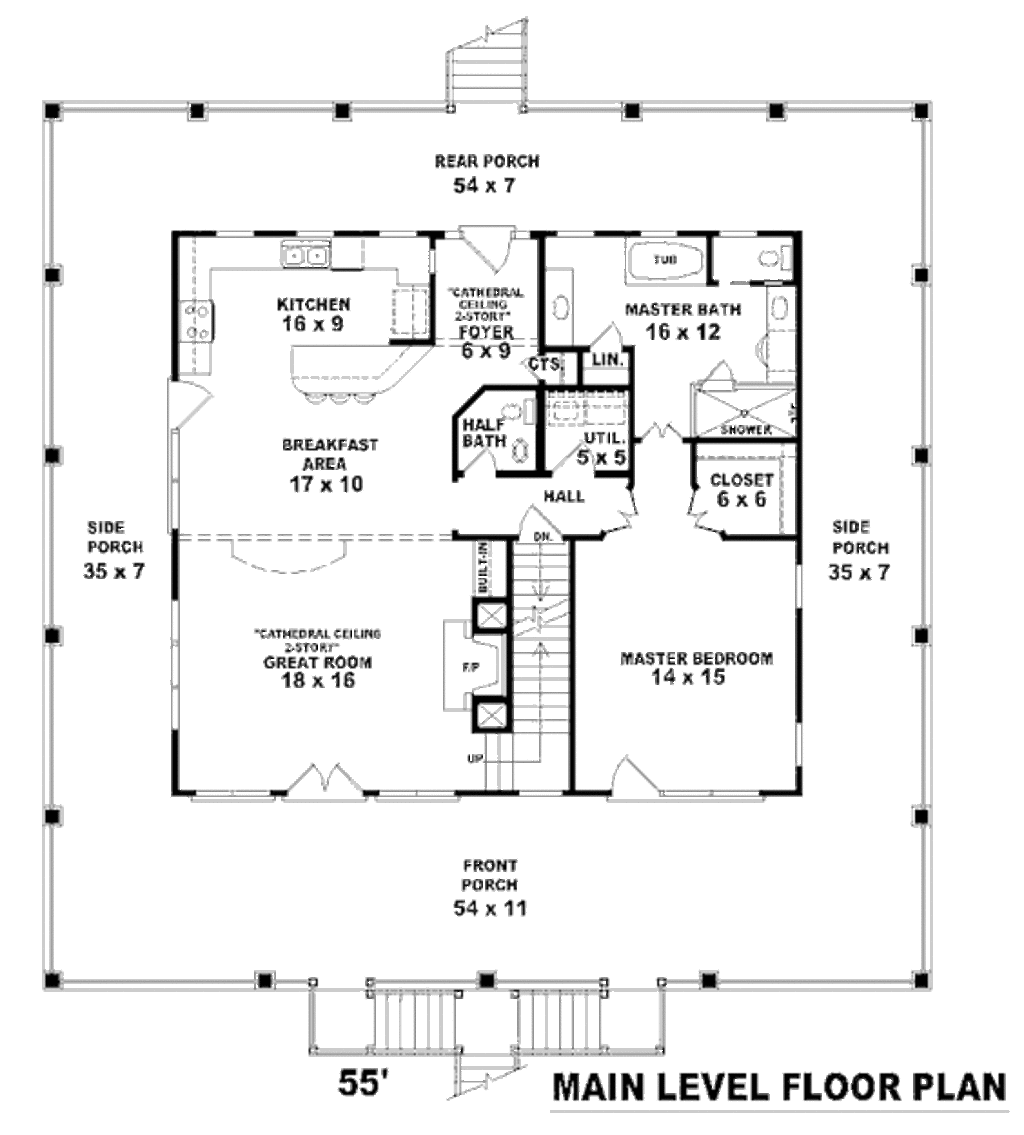door: (282, 761, 362, 806), (454, 220, 515, 273), (609, 754, 664, 808), (166, 371, 218, 427)
large_sink: (752, 238, 792, 277)
small_sink: (541, 266, 577, 348), (762, 286, 795, 332)
stairs: (358, 982, 669, 1059), (503, 535, 575, 786), (438, 8, 536, 114)
tub: (624, 235, 710, 289)
twin_sink: (274, 238, 345, 274)
windows: (165, 596, 188, 735)
